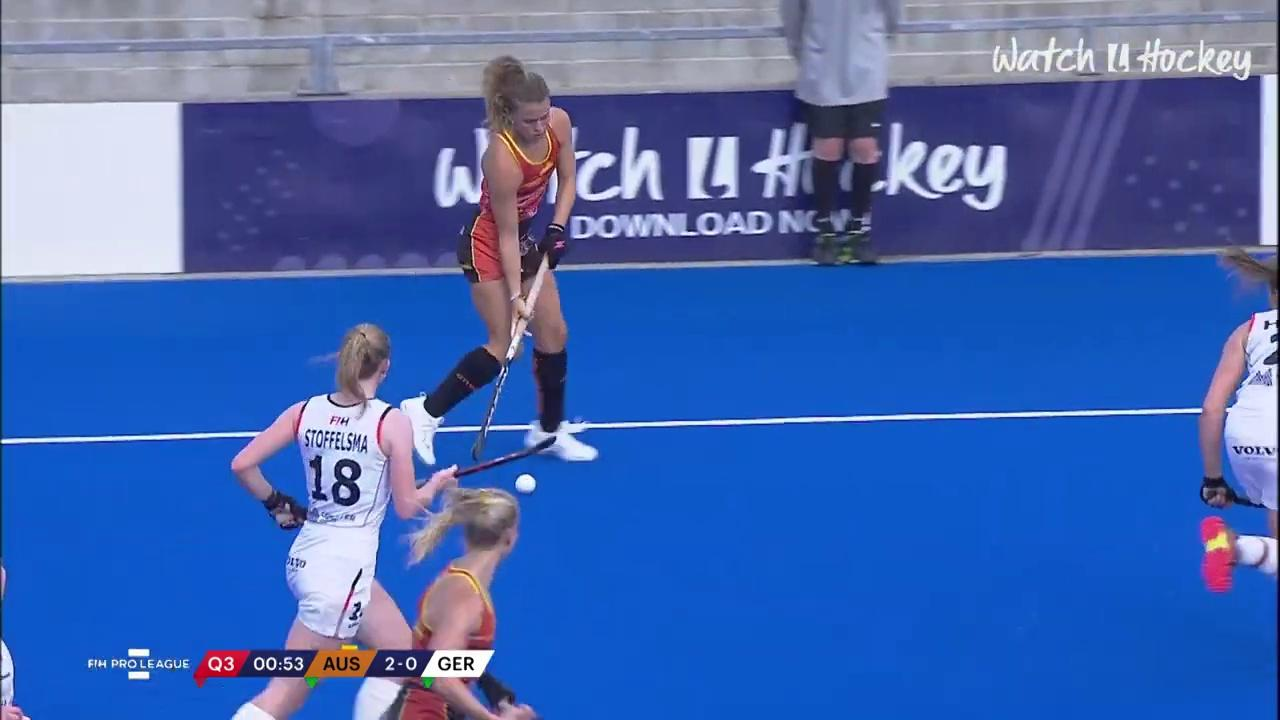ball: (499, 464, 553, 502)
